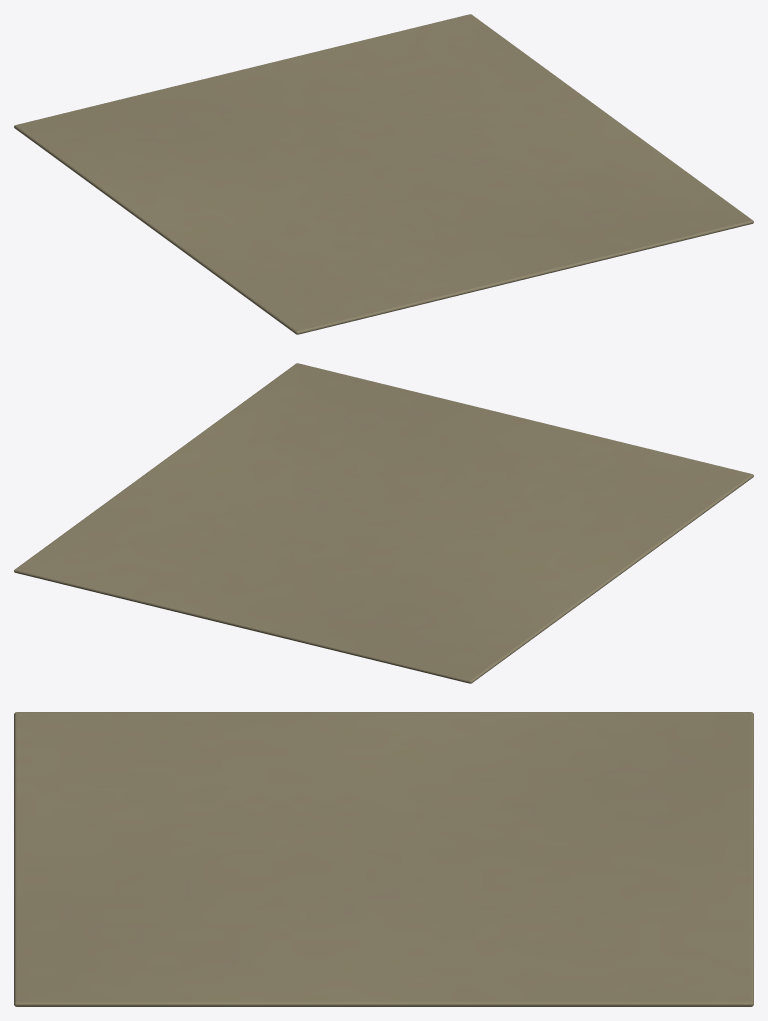
Rendered from Terrain.glb.
3 renders of one model, top to bottom at view 1: azimuth 30°, elevation 25°; view 2: azimuth 150°, elevation 25°; view 3: azimuth 270°, elevation 25°, orthographic. The views are drawn at different scales.
Visible parts, largest first — view 1: Terrain; view 2: Terrain; view 3: Terrain.
Part boxes in pixels (x1=…): Terrain: x1=14, y1=14, x2=753, y2=334; Terrain: x1=14, y1=363, x2=753, y2=683; Terrain: x1=14, y1=712, x2=753, y2=1006.
Bounding box in the file's own units: 56 × 0.4 × 60.
1 material, 1 textured.
